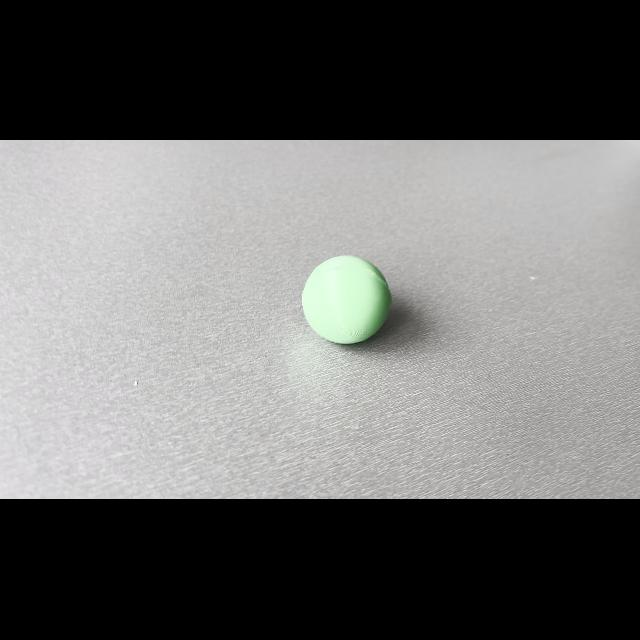objects: (294, 250, 402, 350)
